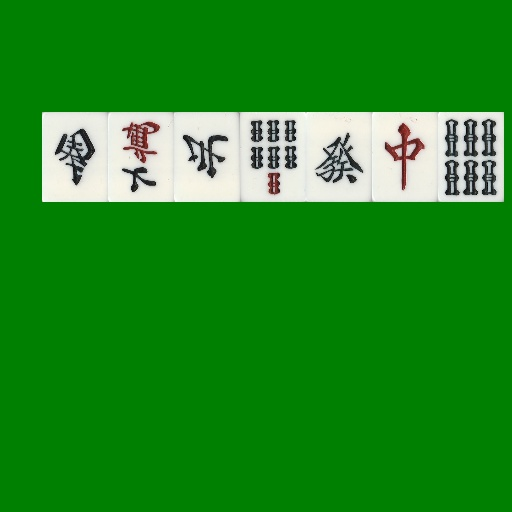6s: (438, 112, 504, 202)
7m: (108, 112, 174, 202)
7s: (240, 112, 306, 202)
hatsu: (306, 112, 372, 202)
north: (174, 112, 240, 202)
south: (42, 112, 108, 202)
tyun: (372, 112, 438, 202)
